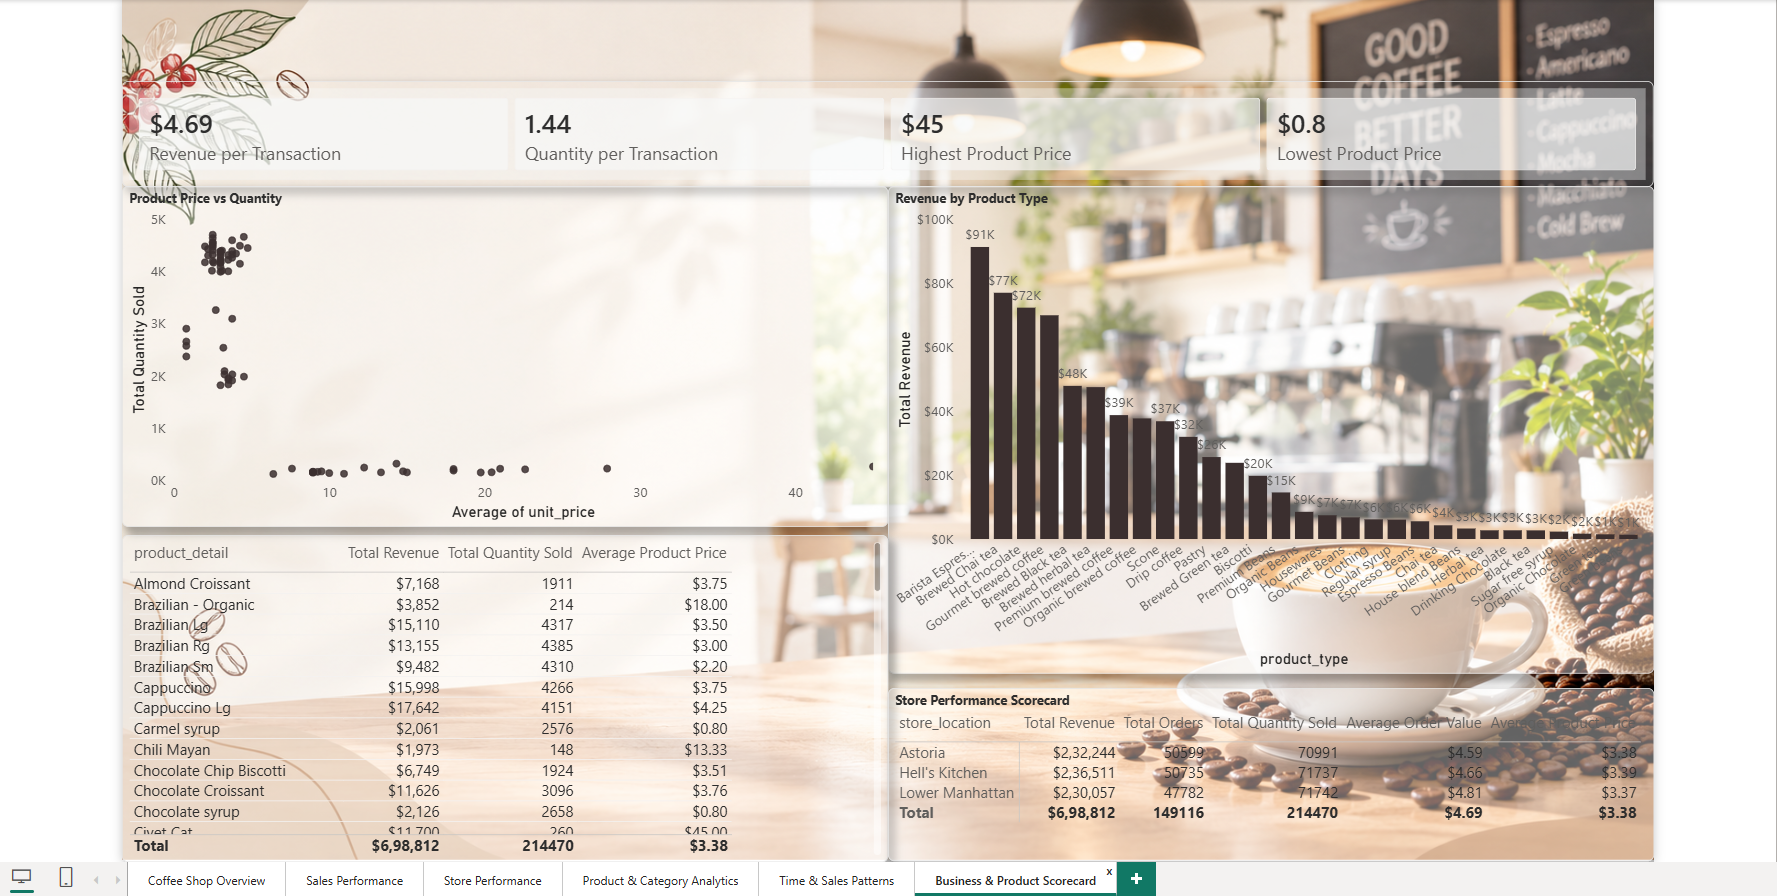

The dashboard page shown, as its layout file describes it:
{"tool":"powerbi","page":{"name":"Business & Product Scorecard","canvas":[1920,1080],"ordinal":5},"visuals":[{"type":"cardVisual","fields":{"Data":["Coffee Shop Sales.Revenue per Transaction","Coffee Shop Sales.Quantity per Transaction","Coffee Shop Sales.Highest Product Price","Coffee Shop Sales.Lowest Product Price"]},"box":[0,101.1,1919.3,133],"z":0},{"type":"scatterChart","title":" Product Price vs Quantity","fields":{"X":["Avg(Coffee Shop Sales.unit_price)"],"Y":["Coffee Shop Sales.Total Quantity Sold"],"Category":["Coffee Shop Sales.product_detail"]},"box":[0,233.4,960,427.5],"z":1000},{"type":"clusteredColumnChart","title":"Revenue by Product Type","fields":{"Category":["Coffee Shop Sales.product_type"],"Y":["Coffee Shop Sales.Total Revenue"]},"box":[960,233.4,960,611.3],"z":2000},{"type":"tableEx","fields":{"Values":["Coffee Shop Sales.product_detail","Coffee Shop Sales.Total Revenue","Coffee Shop Sales.Total Quantity Sold","Coffee Shop Sales.Average Product Price"]},"box":[0,670,960,410],"z":3000},{"type":"pivotTable","title":"Store Performance Scorecard","fields":{"Values":["Coffee Shop Sales.Total Revenue","Coffee Shop Sales.Total Orders","Coffee Shop Sales.Total Quantity Sold","Coffee Shop Sales.Average Order Value","Coffee Shop Sales.Average Product Price"],"Rows":["Coffee Shop Sales.store_location"]},"box":[960,862.2,960,217.4],"z":4000}]}

Visuals, with their boxes on the page's 1920x1080 design canvas (x1, y1, x2, y2). These are canvas units, not pixel positions in the 1777x896 screenshot, which may show the page scaled, cropped or inside an application window:
cardVisual - Coffee Shop Sales.Revenue per Transaction x Coffee Shop Sales.Quantity per Transaction: <bbox>0, 101, 1919, 234</bbox>
" Product Price vs Quantity" scatterChart: <bbox>0, 233, 960, 661</bbox>
"Revenue by Product Type" clusteredColumnChart: <bbox>960, 233, 1920, 845</bbox>
tableEx - Coffee Shop Sales.product_detail x Coffee Shop Sales.Total Revenue: <bbox>0, 670, 960, 1080</bbox>
"Store Performance Scorecard" pivotTable: <bbox>960, 862, 1920, 1080</bbox>
